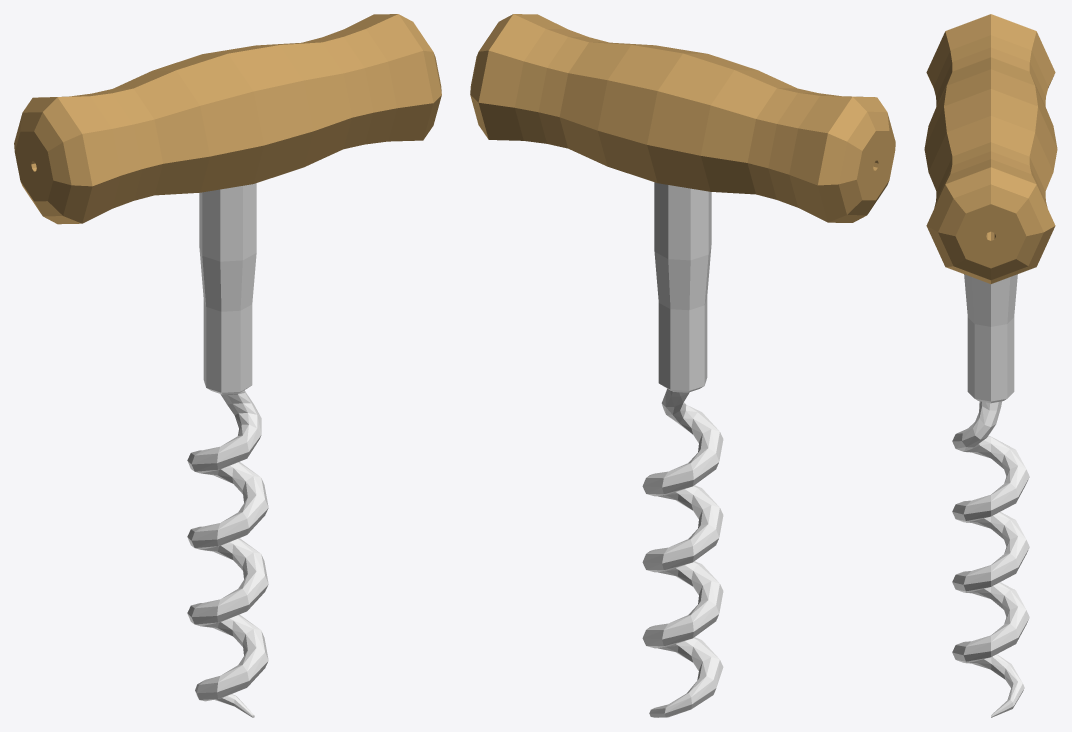
Rendered from corkscrew.gltf.
3 renders of one model, left to right at view 1: azimuth 30°, elevation 25°; view 2: azimuth 150°, elevation 25°; view 3: azimuth 270°, elevation 25°, orthographic. The views are drawn at different scales.
Visible parts, largest first — view 1: node-0; view 2: node-0; view 3: node-0.
Part boxes in pixels (x1,y1,x2,y2): node-0: [14, 14, 441, 717]; node-0: [470, 14, 895, 717]; node-0: [924, 14, 1057, 717].
Bounding box in the file's own units: 5.31 × 8.78 × 1.71.
